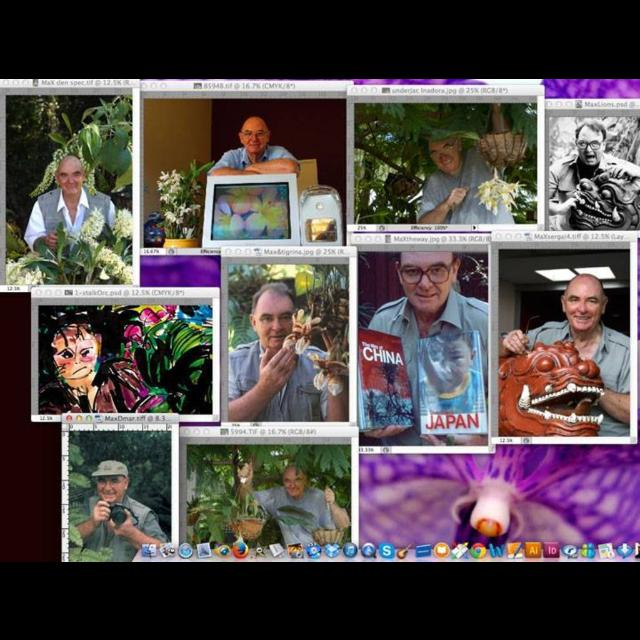Flower: (359, 448, 639, 554), (77, 206, 136, 286), (159, 170, 207, 236), (477, 170, 525, 213), (4, 253, 46, 281)
